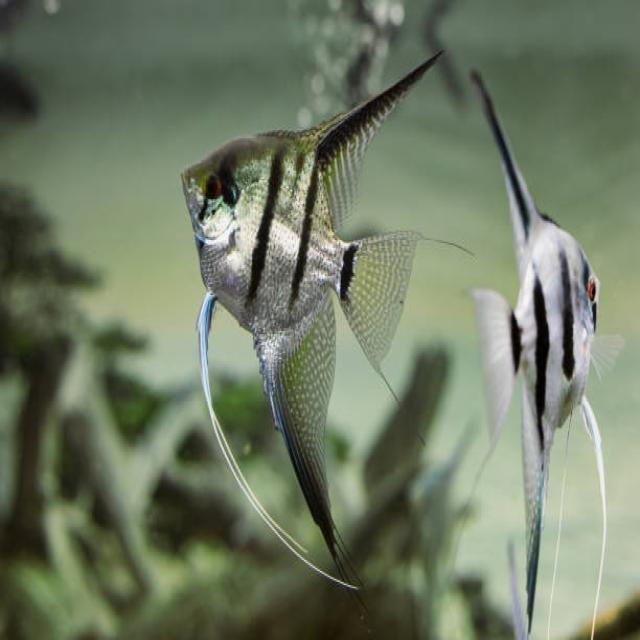AngelFish: (180, 46, 443, 594), (471, 60, 614, 634)
